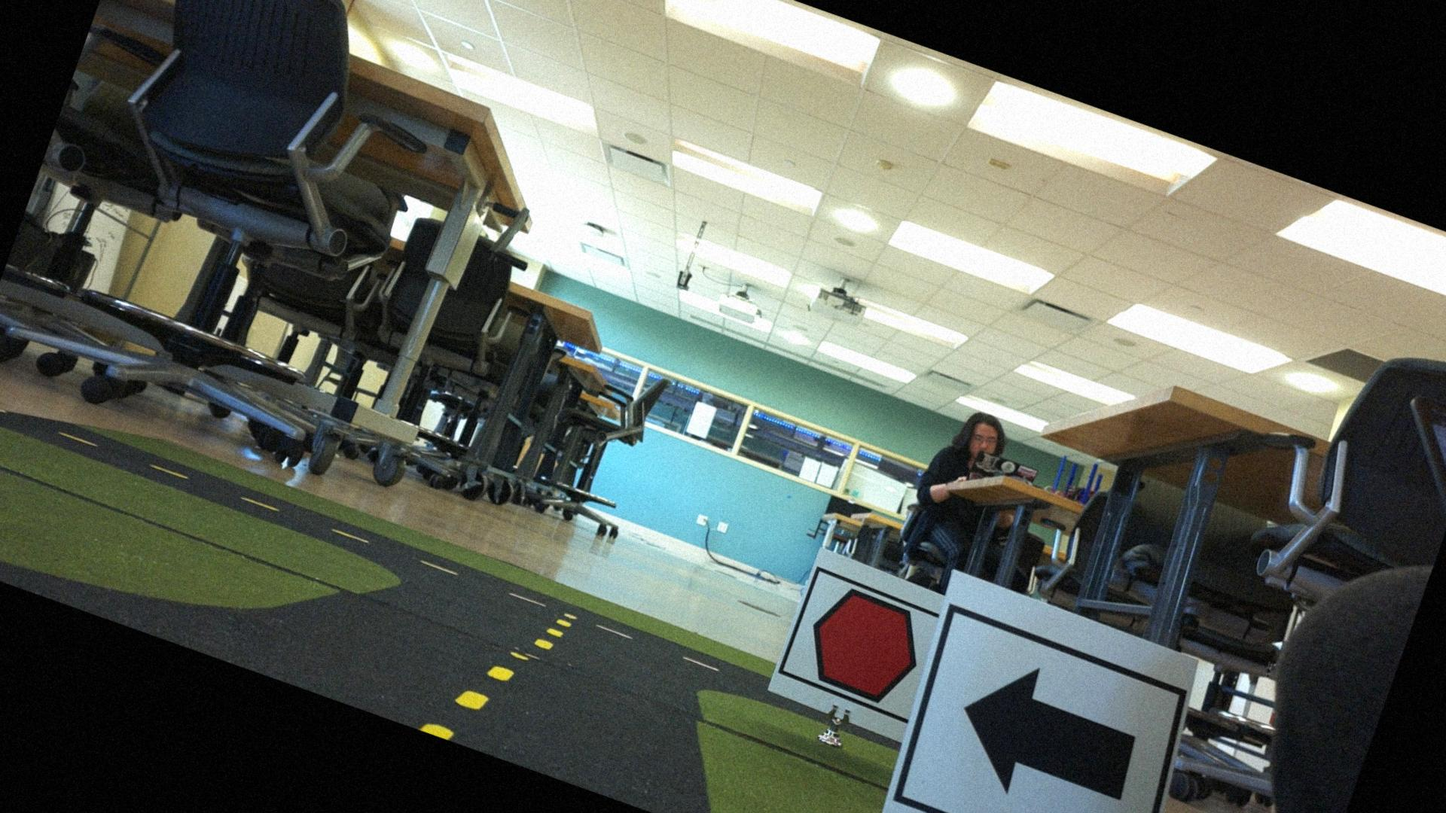stop: (786, 574, 942, 721)
turnright: (894, 616, 1185, 812)
yellowline: (423, 645, 514, 753), (531, 610, 571, 657)
